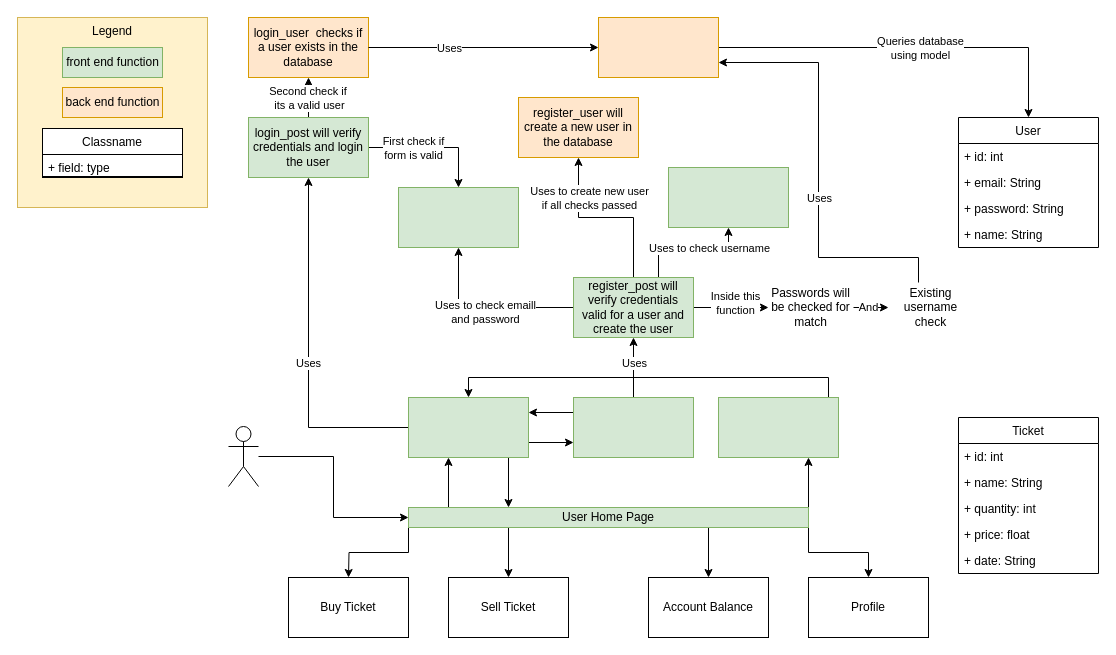
This 1116x655 diagram has some shape labels left out. The centre of each missing label's shape, as x and y in pixels:
"/Login" belongs at point 468,427.
"/Logout" belongs at point 778,427.
"/Register" belongs at point 633,427.
"Actor" belongs at point 243,456.
"check username_field will check if a username field is valid" belongs at point 728,197.
"check_login_form will check if the email/password form for login is valid" belongs at point 458,217.
"get_user will return a user object from a username" belongs at point 658,47.
